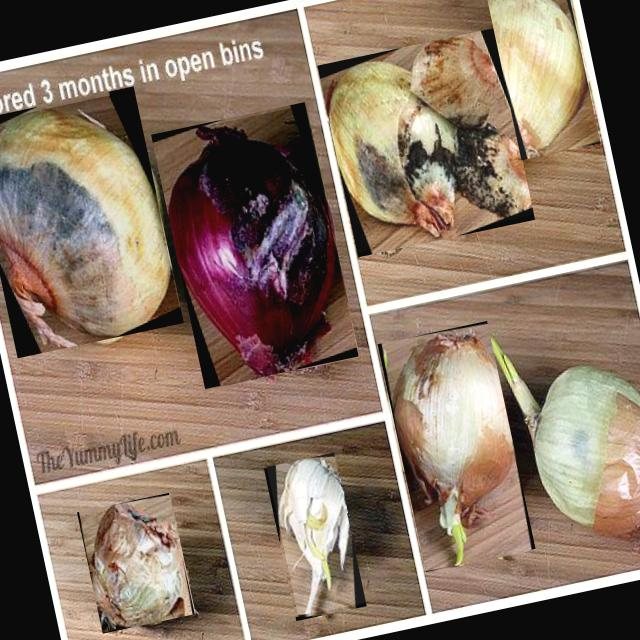healthy: (487, 0, 585, 157)
rotten: (171, 127, 336, 375), (0, 109, 170, 347), (329, 36, 529, 235), (93, 501, 187, 623), (279, 458, 349, 614)
sprouting: (395, 332, 515, 565)
